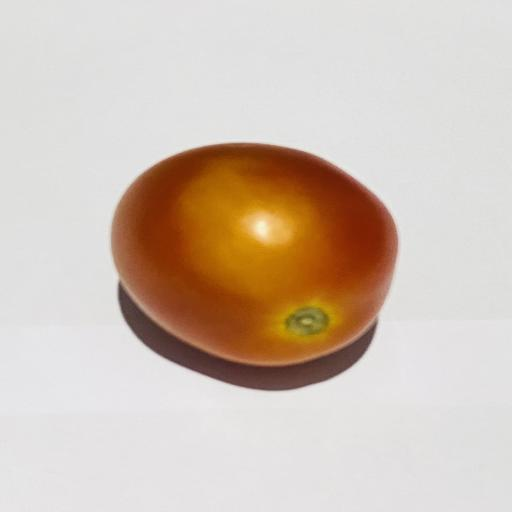ripe: (112, 144, 397, 366)
